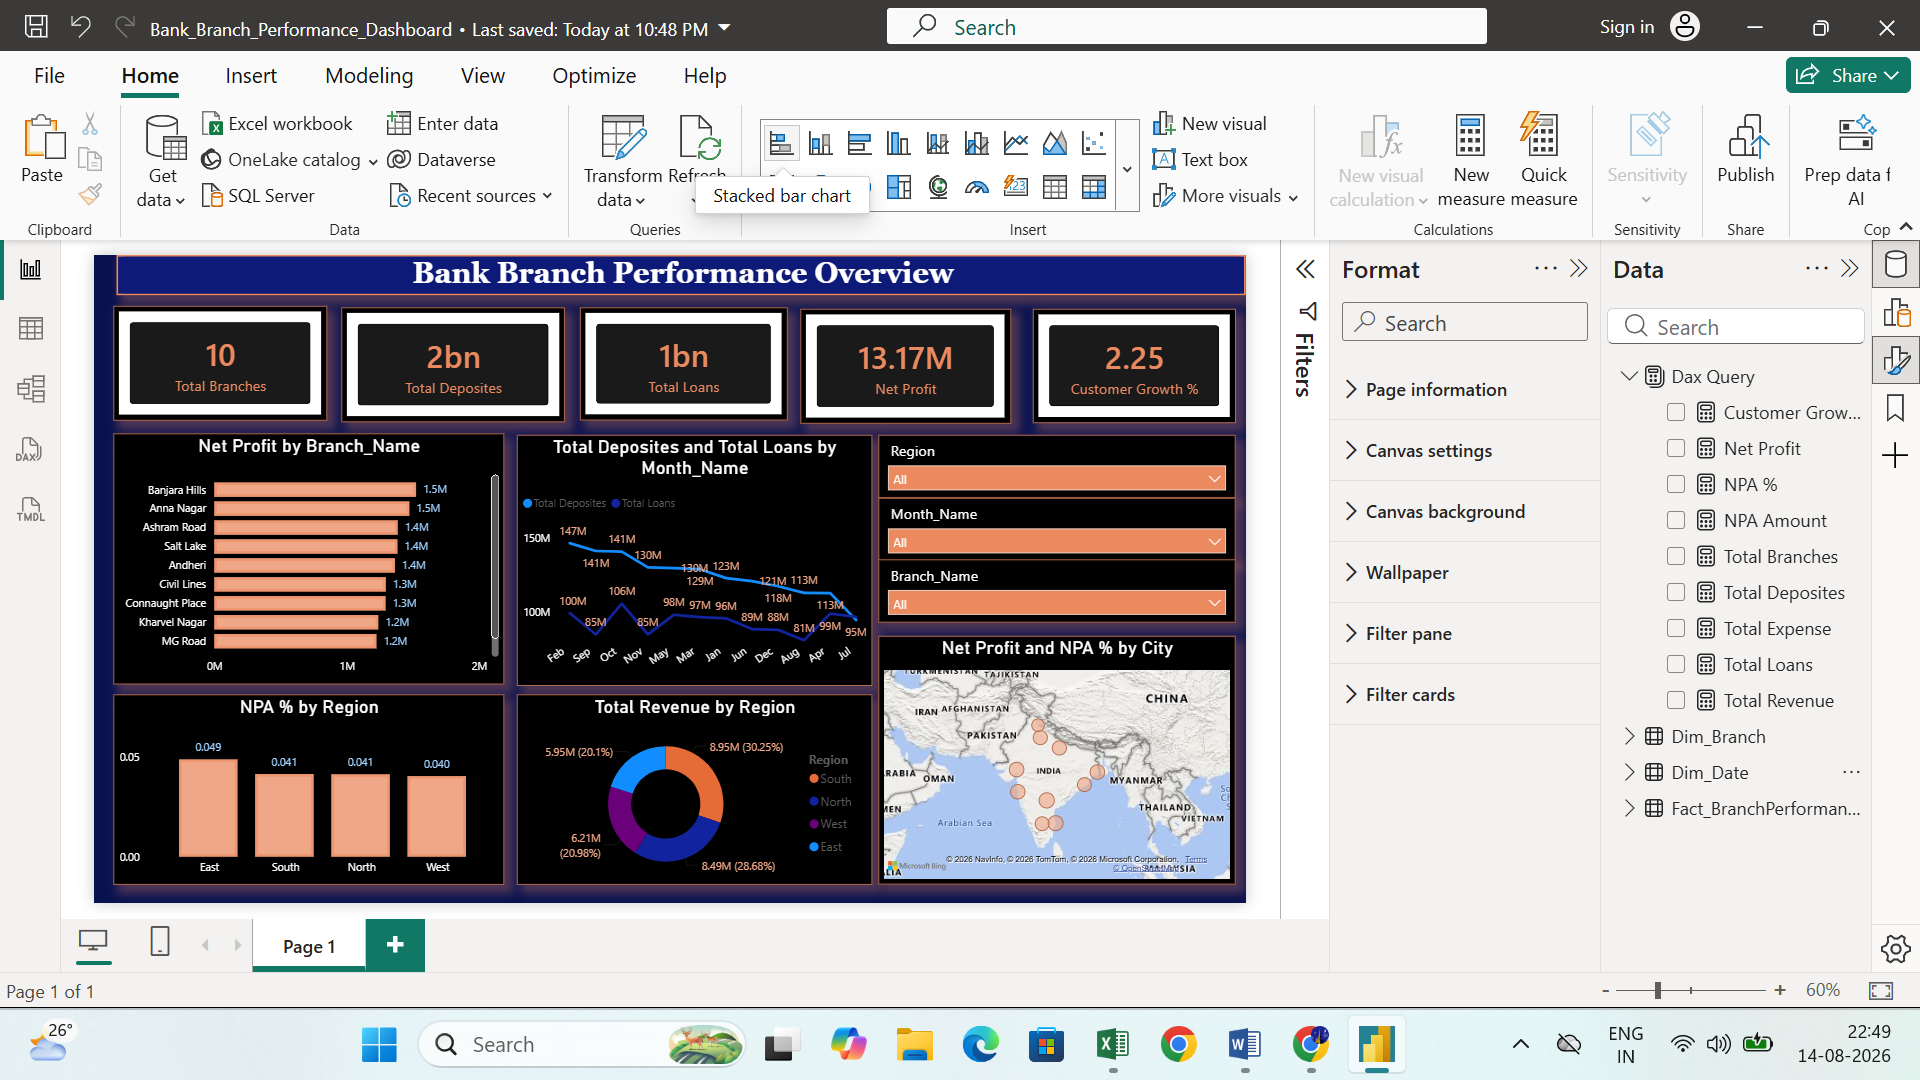

Layout of this report page (visuals, bound fields, positions):
{"tool":"powerbi","page":{"name":"Page 1","canvas":[1280,720],"ordinal":0},"visuals":[{"type":"textbox","title":"Bank Branch Performance Overview","box":[25.4,0,1255,44.5],"z":0},{"type":"cardVisual","fields":{"Data":["Dax Query.Total Branches"]},"box":[21.7,56.7,237,127.2],"z":1000},{"type":"cardVisual","fields":{"Data":["Dax Query.Total Loans"]},"box":[539.2,58.9,230.6,125.7],"z":2000},{"type":"cardVisual","fields":{"Data":["Dax Query.Net Profit"]},"box":[785.8,60.4,233.8,127.2],"z":3000},{"type":"cardVisual","fields":{"Data":["Dax Query.Customer Growth %"]},"box":[1043.3,60,225,126.7],"z":4000},{"type":"cardVisual","fields":{"Data":["Dax Query.Total Deposites"]},"box":[275.2,58.9,248.1,127.2],"z":5000},{"type":"clusteredBarChart","fields":{"Category":["Dim_Branch.Branch_Name"],"Y":["Dax Query.Net Profit"]},"box":[22.3,198.8,434.2,278.4],"z":6000},{"type":"lineChart","fields":{"Category":["Dim_Date.Month_Name"],"Y":["Dax Query.Total Deposites","Dax Query.Total Loans"]},"box":[469.2,200.4,394.5,278.4],"z":7000},{"type":"clusteredColumnChart","fields":{"Category":["Dim_Branch.Region"],"Y":["Dax Query.NPA %"]},"box":[22.3,488.3,434.2,211.6],"z":8000},{"type":"donutChart","fields":{"Category":["Dim_Branch.Region"],"Y":["Dax Query.Total Revenue"]},"box":[469.2,488.3,394.5,211.6],"z":9000},{"type":"map","fields":{"Category":["Dim_Branch.City"],"Size":["Dax Query.Net Profit"]},"box":[871,423.3,396.7,276],"z":10000},{"type":"slicer","fields":{"Values":["Dim_Branch.Region"]},"box":[871.7,200,396.7,70],"z":11000},{"type":"slicer","fields":{"Values":["Dim_Date.Month_Name"]},"box":[871.7,270,396.7,70],"z":12000},{"type":"slicer","fields":{"Values":["Dim_Branch.Branch_Name"]},"box":[871.7,338.3,396.7,70],"z":13000}]}

Visuals, with their boxes on the page's 1280x720 design canvas (x1, y1, x2, y2). These are canvas units, not pixel positions in the 1920x1080 screenshot, which may show the page scaled, cropped or inside an application window:
"Bank Branch Performance Overview" textbox: region(25, 0, 1280, 44)
cardVisual - Dax Query.Total Branches: region(22, 57, 259, 184)
cardVisual - Dax Query.Total Loans: region(539, 59, 770, 185)
cardVisual - Dax Query.Net Profit: region(786, 60, 1020, 188)
cardVisual - Dax Query.Customer Growth %: region(1043, 60, 1268, 187)
cardVisual - Dax Query.Total Deposites: region(275, 59, 523, 186)
clusteredBarChart - Dim_Branch.Branch_Name x Dax Query.Net Profit: region(22, 199, 456, 477)
lineChart - Dim_Date.Month_Name x Dax Query.Total Deposites: region(469, 200, 864, 479)
clusteredColumnChart - Dim_Branch.Region x Dax Query.NPA %: region(22, 488, 456, 700)
donutChart - Dim_Branch.Region x Dax Query.Total Revenue: region(469, 488, 864, 700)
map - Dim_Branch.City x Dax Query.Net Profit: region(871, 423, 1268, 699)
slicer - Dim_Branch.Region: region(872, 200, 1268, 270)
slicer - Dim_Date.Month_Name: region(872, 270, 1268, 340)
slicer - Dim_Branch.Branch_Name: region(872, 338, 1268, 408)
